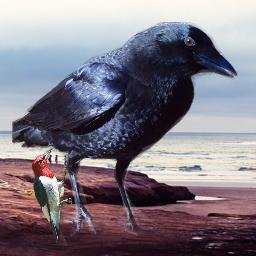Crow: (12, 22, 238, 239)
Woodpecker: (31, 148, 72, 246)
